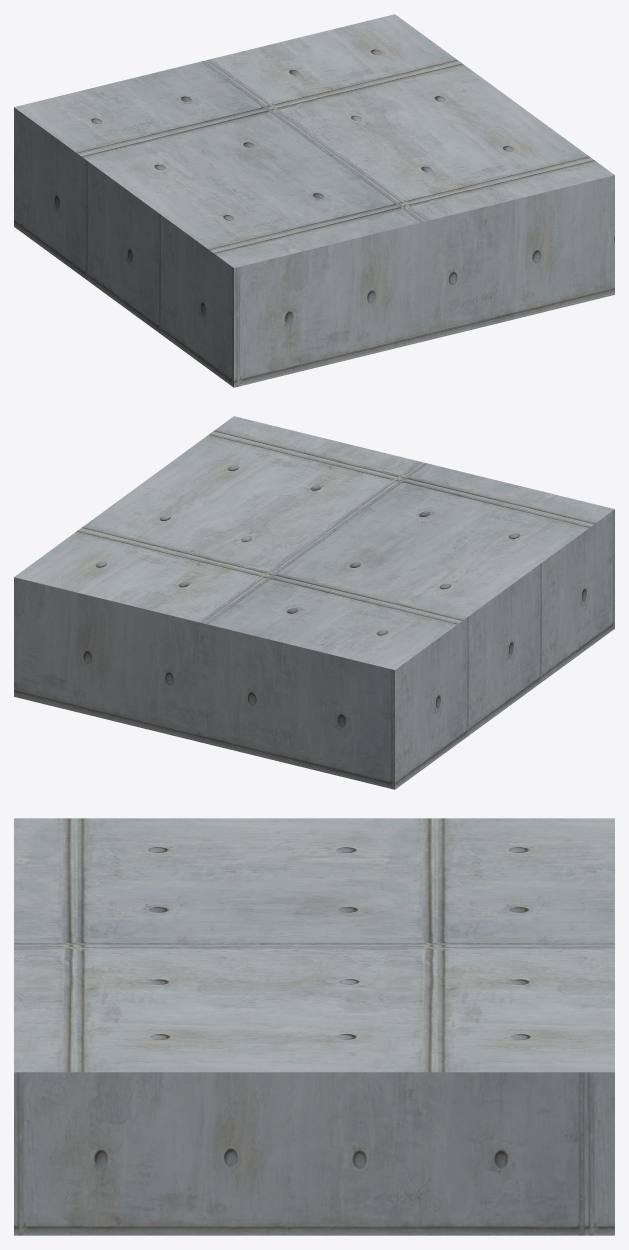
The model's file is FragmentedFloor.fbx.
3 views of the same model, one above another, from view 1: azimuth 30°, elevation 25°; view 2: azimuth 150°, elevation 25°; view 3: azimuth 270°, elevation 25° (orthographic). The views are drawn at different scales.
Parts seen in each view (by area): view 1: Group2, Group7, Group5, Group3, Group4, Group6; view 2: Group5, Group4, Group7, Group2, Group3, Group6; view 3: Group7, Group5, Group2, Group6, Group3, Group4.
Boxes of the visible parts, <box> form: Group2: <box>161,174,514,387</box>; Group7: <box>326,14,614,318</box>; Group5: <box>134,14,394,154</box>; Group3: <box>88,114,243,333</box>; Group4: <box>14,67,178,280</box>; Group6: <box>189,94,360,194</box>; Group5: <box>14,549,403,749</box>; Group4: <box>229,616,468,789</box>; Group7: <box>15,416,376,576</box>; Group2: <box>334,440,614,681</box>; Group3: <box>350,542,541,735</box>; Group6: <box>196,522,458,582</box>; Group7: <box>14,928,614,1235</box>; Group5: <box>364,873,614,1071</box>; Group2: <box>14,818,213,1005</box>; Group6: <box>213,873,413,999</box>; Group3: <box>213,818,513,873</box>; Group4: <box>413,818,614,928</box>.
Size of the model in its own units: 1 by 0.3 by 1.
